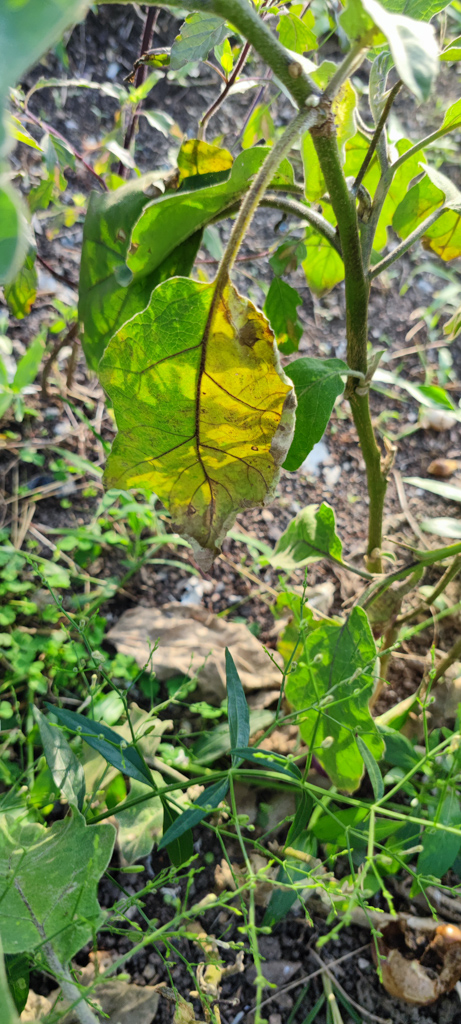Pepper yellow leaf: (203, 258, 299, 544), (169, 127, 234, 181)
